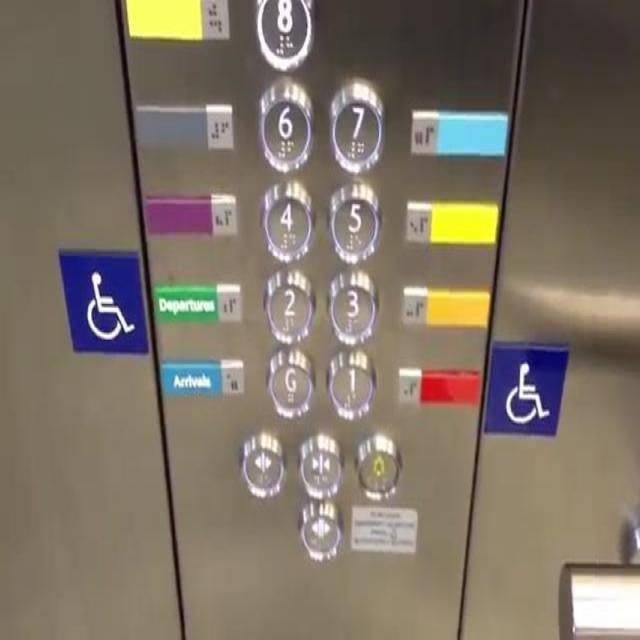1: (326, 342, 378, 418)
2: (262, 266, 316, 346)
3: (326, 264, 379, 345)
4: (260, 177, 314, 264)
5: (326, 175, 381, 264)
6: (255, 76, 314, 172)
7: (326, 76, 384, 175)
8: (254, 0, 314, 71)
CH: (56, 245, 150, 360), (479, 339, 570, 440)
G: (263, 347, 315, 420)
alarm: (354, 431, 402, 500)
close: (297, 431, 344, 497)
open: (298, 498, 346, 562), (240, 431, 285, 497)
